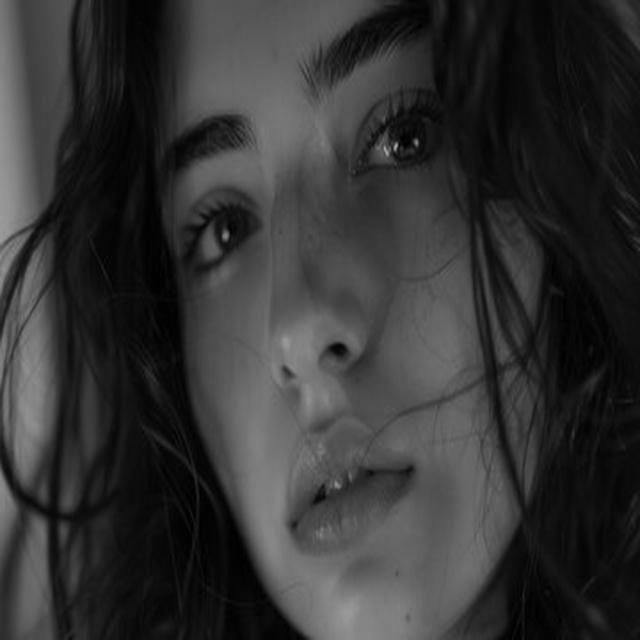Neutral: (153, 1, 556, 640)
